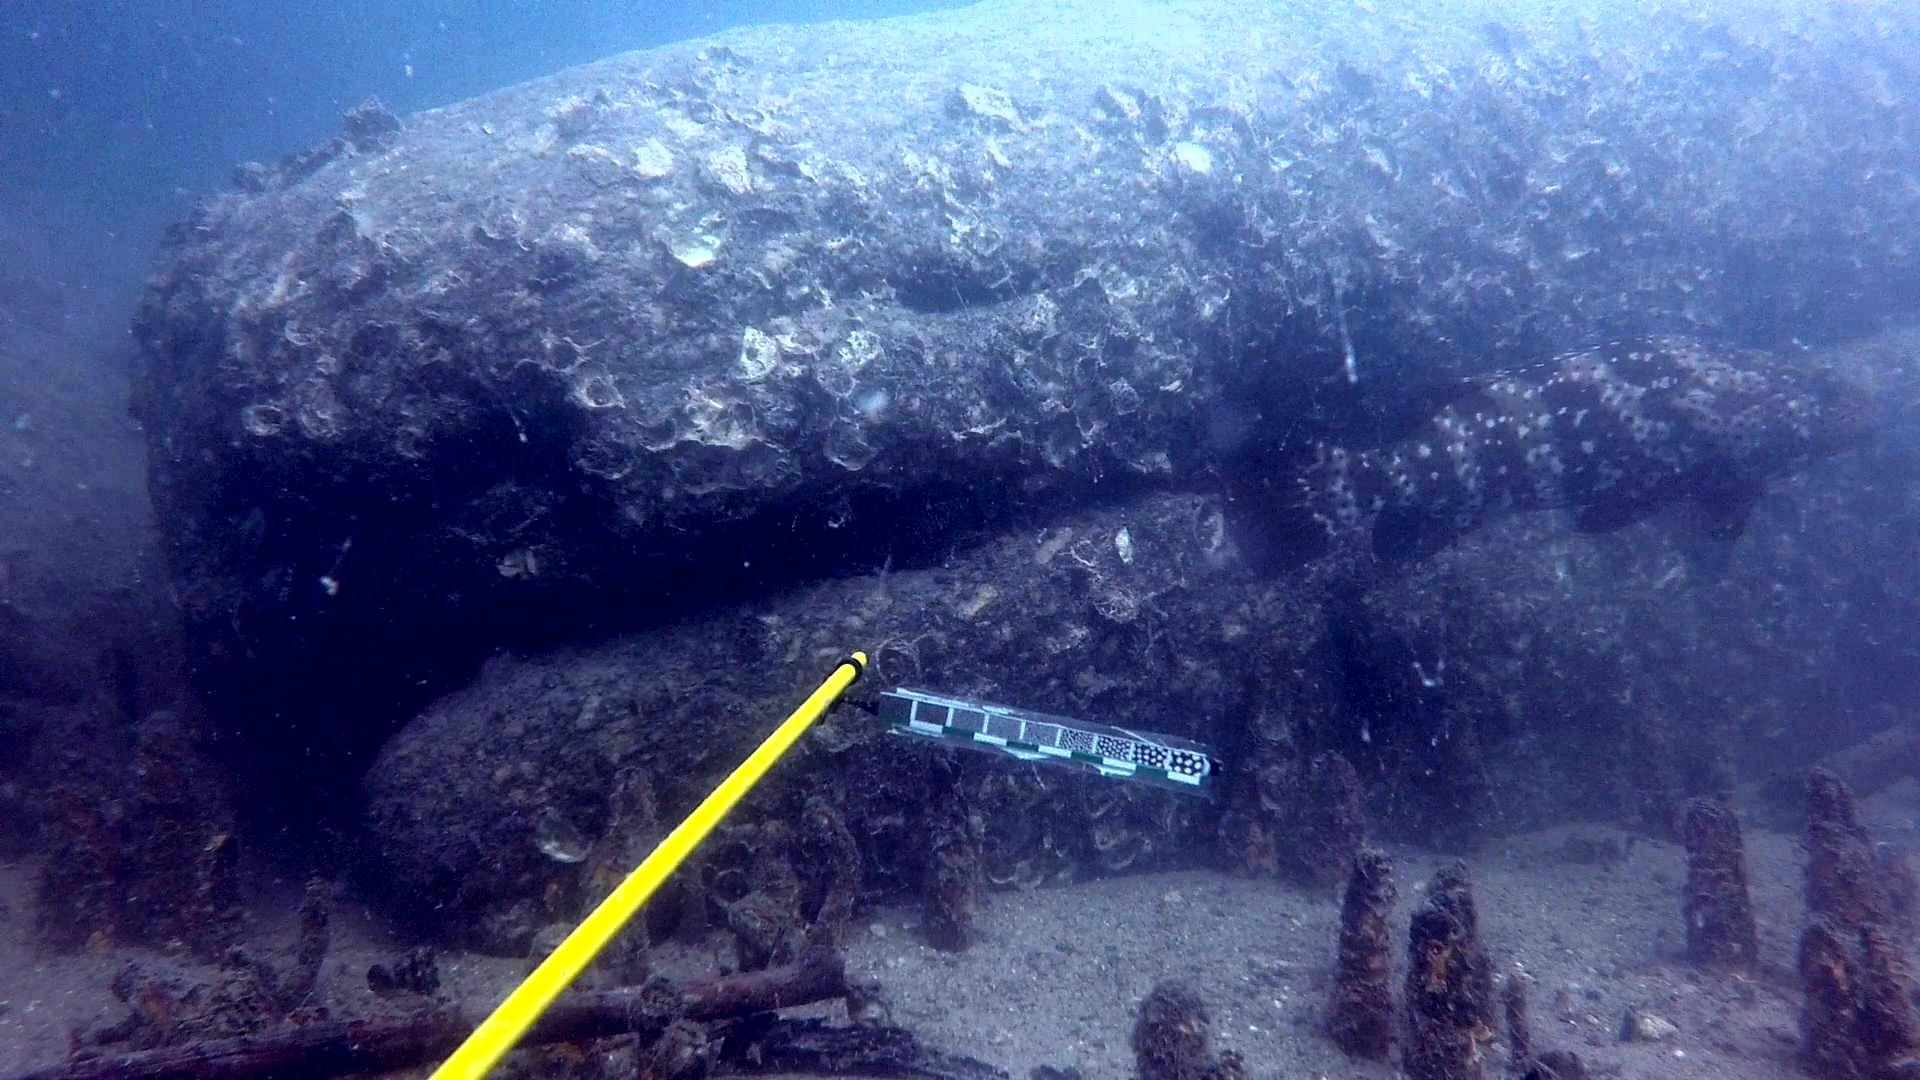epinephelus: (1217, 327, 1896, 586)
